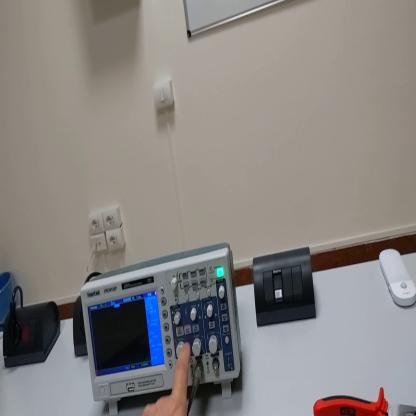hand: (144, 341, 190, 414)
oscilloscope: (81, 240, 242, 415)
pliers: (316, 386, 416, 414)
socket: (5, 296, 64, 366), (72, 298, 87, 358)
